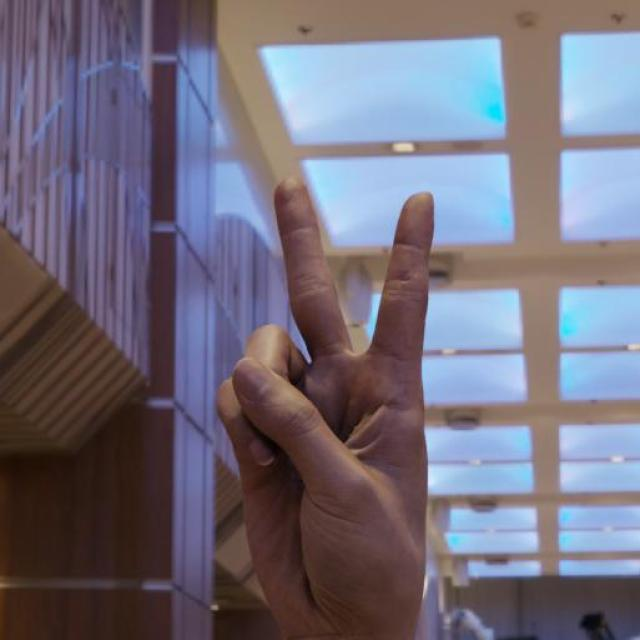V: (213, 173, 442, 634)
